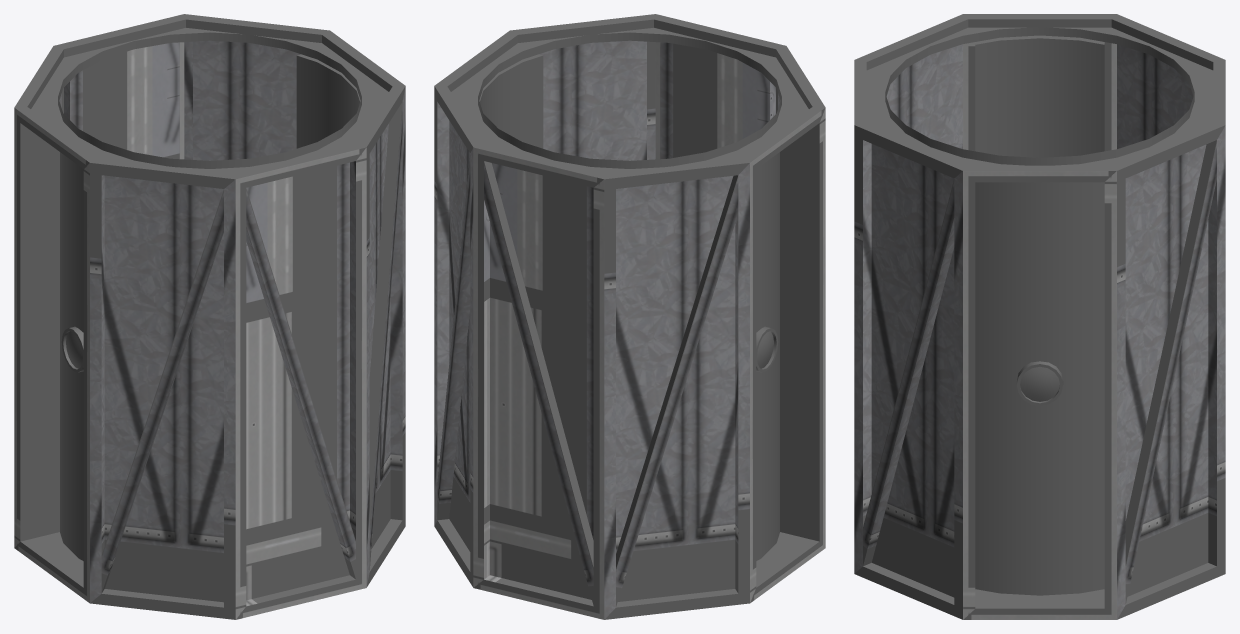
Rendered from nashira_crew_s1_1.obj.
3 renders of one model, left to right at view 1: azimuth 30°, elevation 25°; view 2: azimuth 150°, elevation 25°; view 3: azimuth 270°, elevation 25°, orthographic.
Parts seen in each view (by area): view 1: mesh1; view 2: mesh1; view 3: mesh1, windows1.
Part boxes in pixels (x1,y1,x2,y2): mesh1: (14, 14, 405, 619); mesh1: (434, 14, 825, 619); mesh1: (854, 14, 1225, 619); windows1: (1020, 367, 1059, 401).
Bounding box in the file's own units: 1.5 × 2 × 1.5.
Materials: 2 (2 with a texture image).
